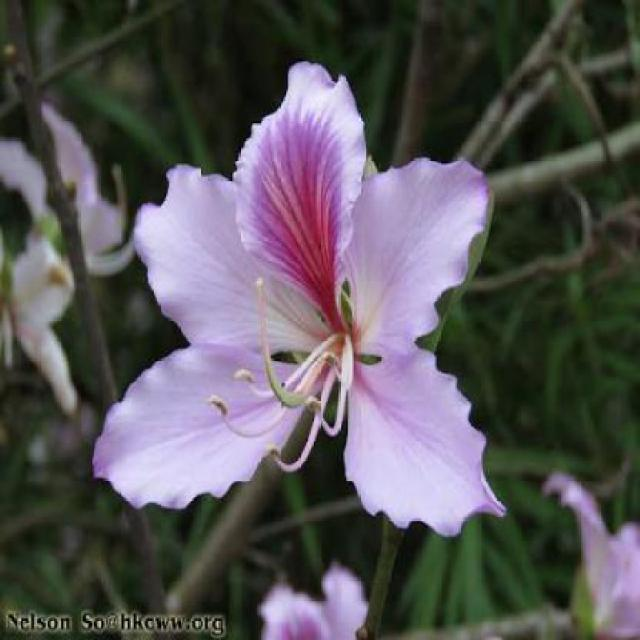flower: (103, 64, 520, 533)
